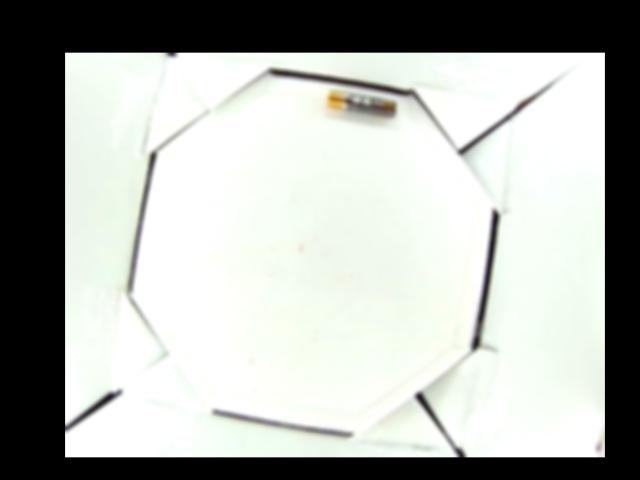Battery: (325, 89, 398, 121)
